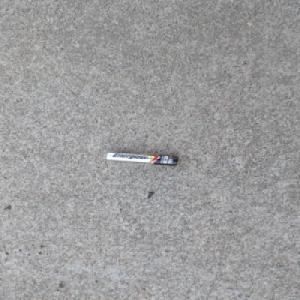Battery: (102, 151, 180, 166)
